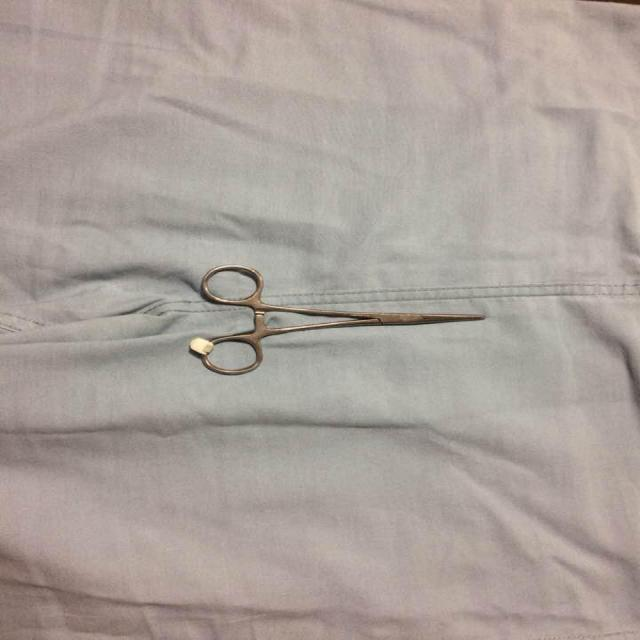Hemostat: (189, 261, 489, 380)
